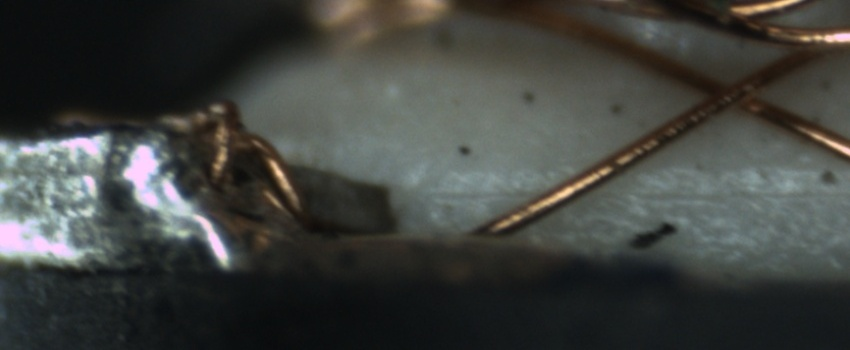CL: (685, 64, 776, 119)
DL: (434, 163, 850, 226)
TE: (146, 99, 324, 225)
